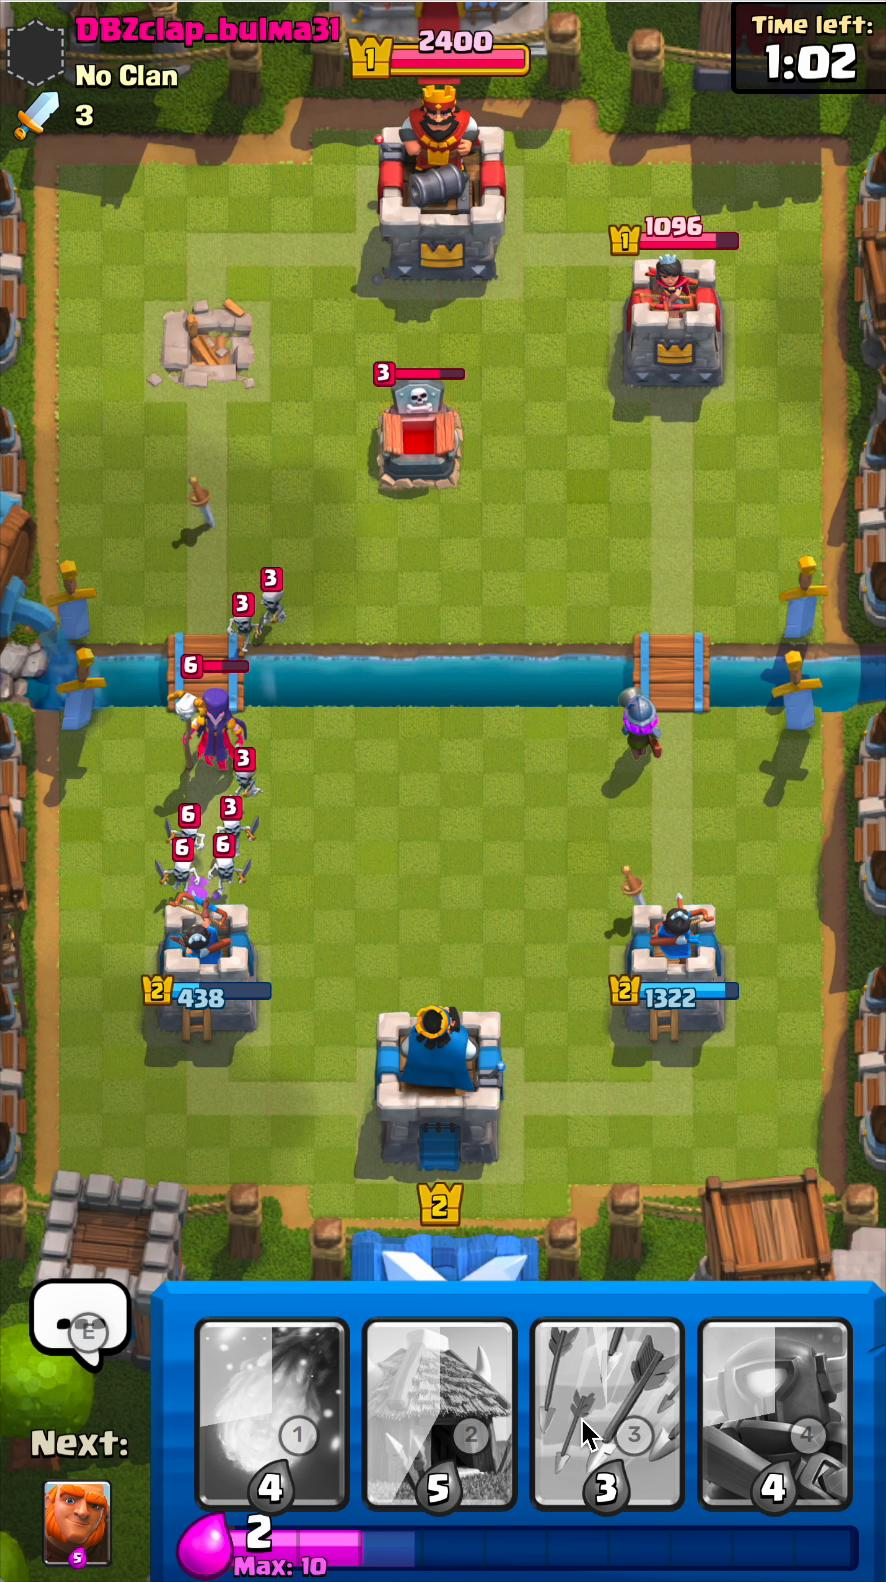mousquetaire: (614, 682, 672, 770)
squelette: (148, 852, 202, 896), (214, 607, 259, 653), (160, 816, 210, 856), (229, 757, 265, 808), (213, 815, 263, 850), (212, 851, 251, 893), (259, 582, 284, 638)
